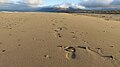human_foot_print: (77, 46, 119, 66), (57, 45, 75, 58), (64, 46, 75, 58), (54, 27, 63, 38), (65, 52, 75, 58), (70, 31, 78, 38), (54, 33, 61, 37), (44, 55, 50, 58)
